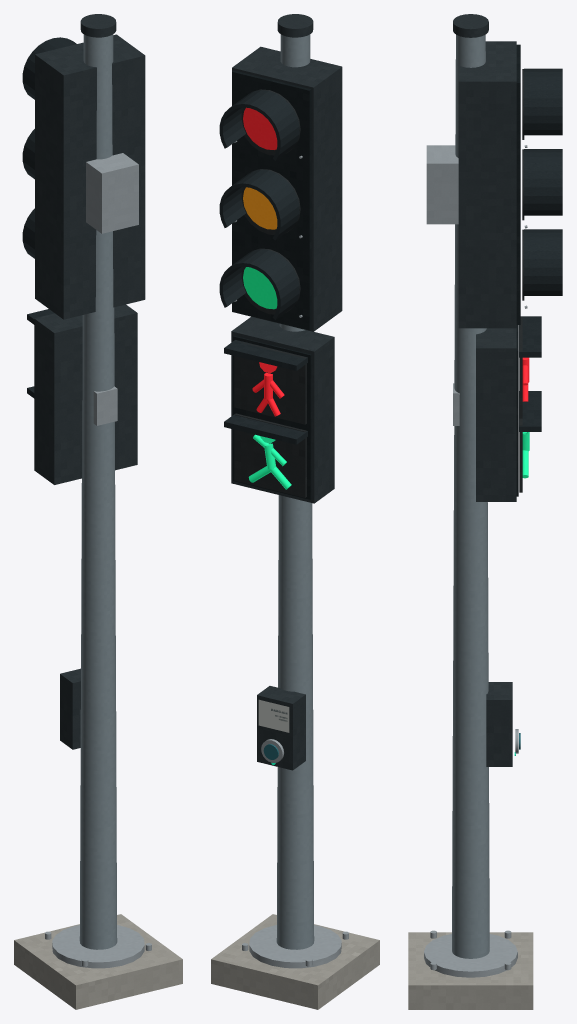
3 views of the same model, side by side, from view 1: azimuth 30°, elevation 25°; view 2: azimuth 150°, elevation 25°; view 3: azimuth 270°, elevation 25° (orthographic).
Visible parts, largest first — view 1: VIS_MAIN_POLE, VIS_HEAD_SHELL__MAIN, VIS_PED_BODY__CROSSING, VIS_CONCRETE_FOOTING, VIS_HEAD_CLAMP, VIS_POLE_BASE_PLATE, VIS_BUTTON_HOUSING__CROSSING, VIS_VISOR_RED__MAIN, VIS_PED_MOUNT__CROSSING, VIS_POLE_CAP, VIS_VISOR_AMBER__MAIN, VIS_VISOR_GREEN__MAIN; view 2: VIS_MAIN_POLE, VIS_HEAD_SHELL__MAIN, VIS_HEAD_FACEPLATE__MAIN, VIS_CONCRETE_FOOTING, VIS_PED_BODY__CROSSING, VIS_PED_UPPER_FRAME__CROSSING, VIS_PED_LOWER_FRAME__CROSSING, VIS_VISOR_AMBER__MAIN, VIS_VISOR_GREEN__MAIN, VIS_VISOR_RED__MAIN, VIS_BUTTON_HOUSING__CROSSING, VIS_POLE_BASE_PLATE (+8 smaller); view 3: VIS_MAIN_POLE, VIS_HEAD_SHELL__MAIN, VIS_PED_BODY__CROSSING, VIS_CONCRETE_FOOTING, VIS_VISOR_RED__MAIN, VIS_VISOR_AMBER__MAIN, VIS_VISOR_GREEN__MAIN, VIS_HEAD_CLAMP, VIS_POLE_BASE_PLATE, VIS_BUTTON_HOUSING__CROSSING, VIS_HEAD_FACEPLATE__MAIN, VIS_PED_TOP_HOOD__CROSSING (+4 smaller).
Part boxes in pixels (bbox=[...]): VIS_MAIN_POLE: bbox=[79, 34, 117, 949]; VIS_HEAD_SHELL__MAIN: bbox=[35, 34, 145, 319]; VIS_PED_BODY__CROSSING: bbox=[34, 304, 137, 484]; VIS_CONCRETE_FOOTING: bbox=[14, 914, 182, 1009]; VIS_HEAD_CLAMP: bbox=[86, 153, 138, 233]; VIS_POLE_BASE_PLATE: bbox=[52, 925, 144, 968]; VIS_BUTTON_HOUSING__CROSSING: bbox=[60, 668, 80, 749]; VIS_VISOR_RED__MAIN: bbox=[22, 37, 76, 99]; VIS_PED_MOUNT__CROSSING: bbox=[93, 386, 117, 425]; VIS_POLE_CAP: bbox=[80, 14, 116, 37]; VIS_VISOR_AMBER__MAIN: bbox=[22, 129, 34, 179]; VIS_VISOR_GREEN__MAIN: bbox=[22, 208, 34, 258]; VIS_MAIN_POLE: bbox=[276, 34, 314, 949]; VIS_HEAD_SHELL__MAIN: bbox=[232, 46, 342, 331]; VIS_HEAD_FACEPLATE__MAIN: bbox=[232, 70, 311, 330]; VIS_CONCRETE_FOOTING: bbox=[211, 914, 379, 1009]; VIS_PED_BODY__CROSSING: bbox=[231, 316, 334, 503]; VIS_PED_UPPER_FRAME__CROSSING: bbox=[234, 341, 306, 424]; VIS_PED_LOWER_FRAME__CROSSING: bbox=[234, 413, 306, 497]; VIS_VISOR_AMBER__MAIN: bbox=[219, 169, 299, 240]; VIS_VISOR_GREEN__MAIN: bbox=[219, 249, 299, 319]; VIS_VISOR_RED__MAIN: bbox=[219, 90, 299, 160]; VIS_BUTTON_HOUSING__CROSSING: bbox=[257, 686, 305, 770]; VIS_POLE_BASE_PLATE: bbox=[249, 925, 341, 968]; VIS_MAIN_POLE: bbox=[452, 35, 489, 958]; VIS_HEAD_SHELL__MAIN: bbox=[458, 41, 516, 328]; VIS_PED_BODY__CROSSING: bbox=[476, 328, 516, 501]; VIS_CONCRETE_FOOTING: bbox=[408, 932, 533, 1009]; VIS_VISOR_RED__MAIN: bbox=[524, 68, 562, 135]; VIS_VISOR_AMBER__MAIN: bbox=[524, 149, 562, 215]; VIS_VISOR_GREEN__MAIN: bbox=[524, 229, 562, 295]; VIS_HEAD_CLAMP: bbox=[426, 145, 458, 224]; VIS_POLE_BASE_PLATE: bbox=[424, 934, 517, 977]; VIS_BUTTON_HOUSING__CROSSING: bbox=[486, 682, 512, 766]; VIS_HEAD_FACEPLATE__MAIN: bbox=[516, 44, 520, 324]; VIS_PED_TOP_HOOD__CROSSING: bbox=[519, 316, 541, 357].
Size of the model in its own units: 0.52 by 4.42 by 0.642.
Materials: 15 (15 with a texture image).
